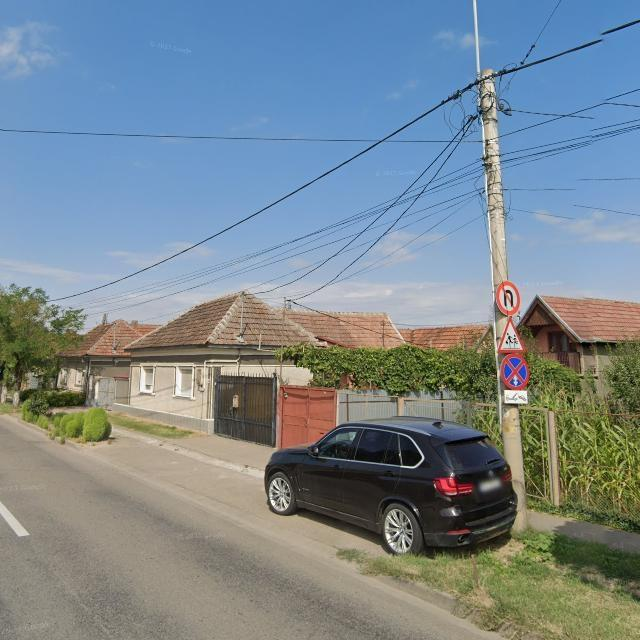forb_waiting: (501, 354, 530, 390)
